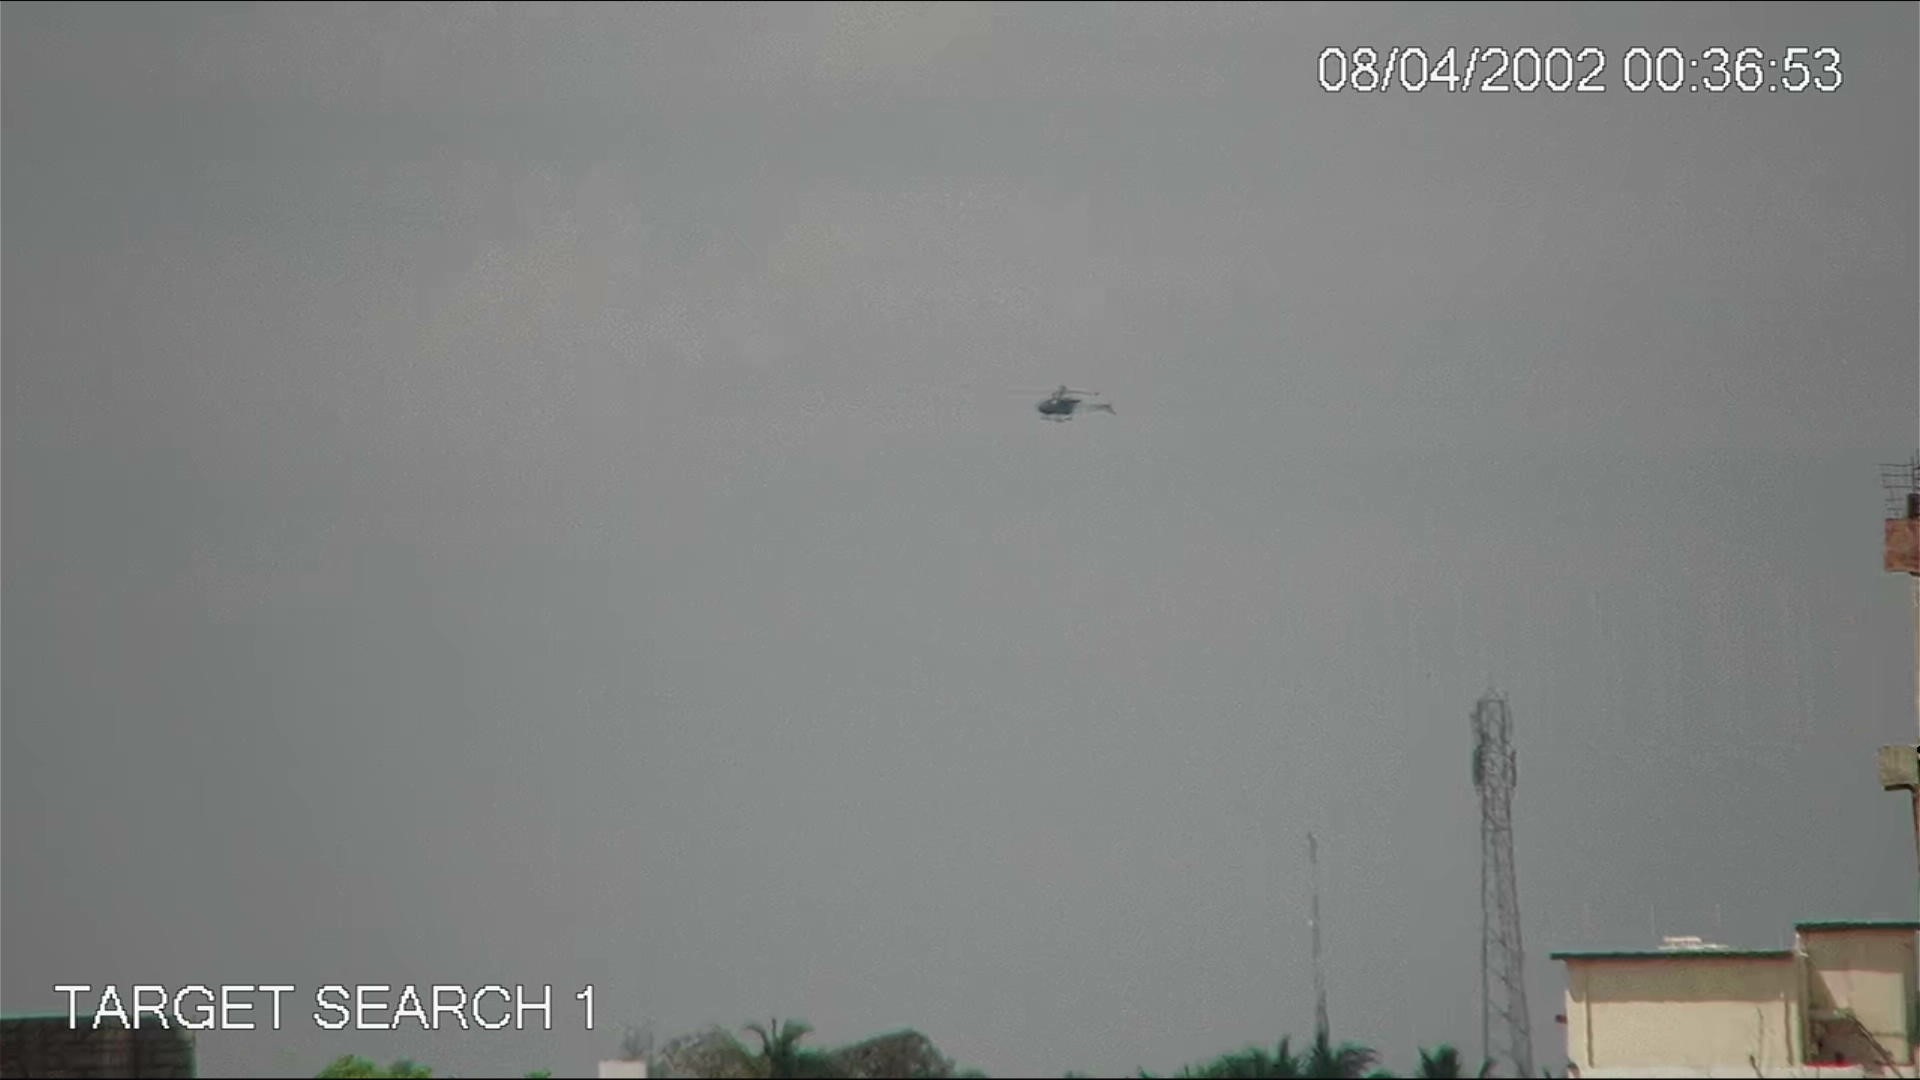SU_30: (1025, 384, 1120, 433)
